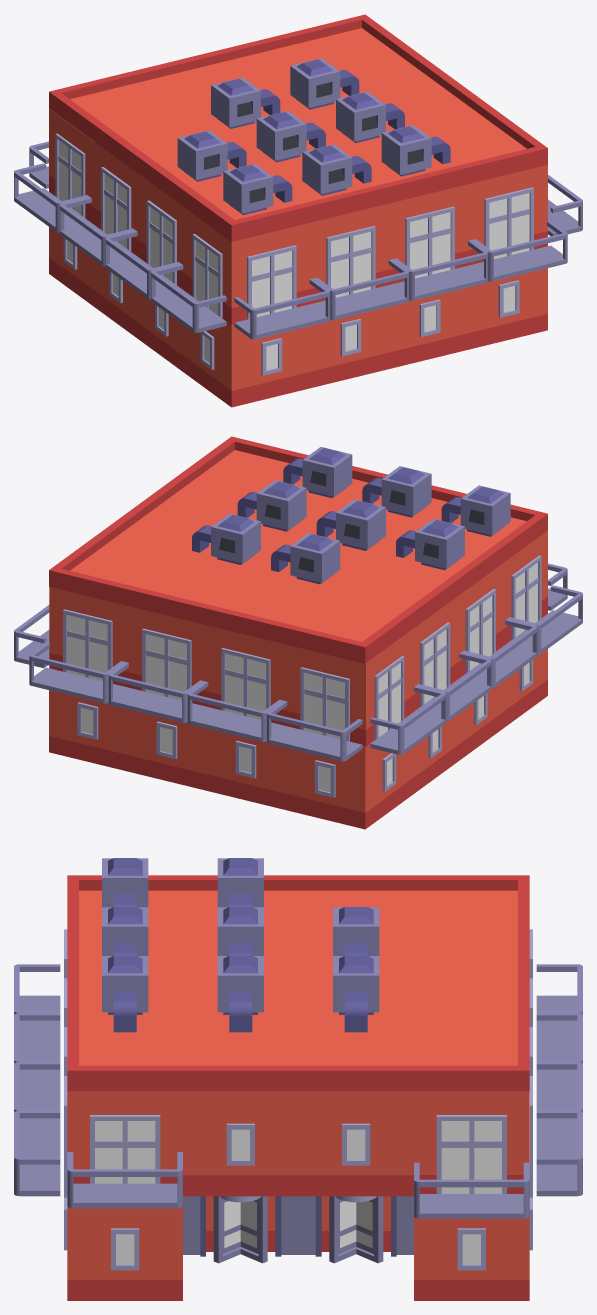
The model's file is factory_2.glb.
3 views of the same model, one above another, from view 1: azimuth 30°, elevation 25°; view 2: azimuth 150°, elevation 25°; view 3: azimuth 270°, elevation 25° (orthographic). The views are drawn at different scales.
Visible parts, largest first — view 1: mergedBlocks(Clone); view 2: mergedBlocks(Clone); view 3: mergedBlocks(Clone).
Boxes of the visible parts, bbox=[...] form: mergedBlocks(Clone): bbox=[14, 14, 582, 407]; mergedBlocks(Clone): bbox=[14, 436, 582, 829]; mergedBlocks(Clone): bbox=[14, 858, 582, 1300].
Size of the model in its own units: 4.92 by 2.55 by 4.93.
